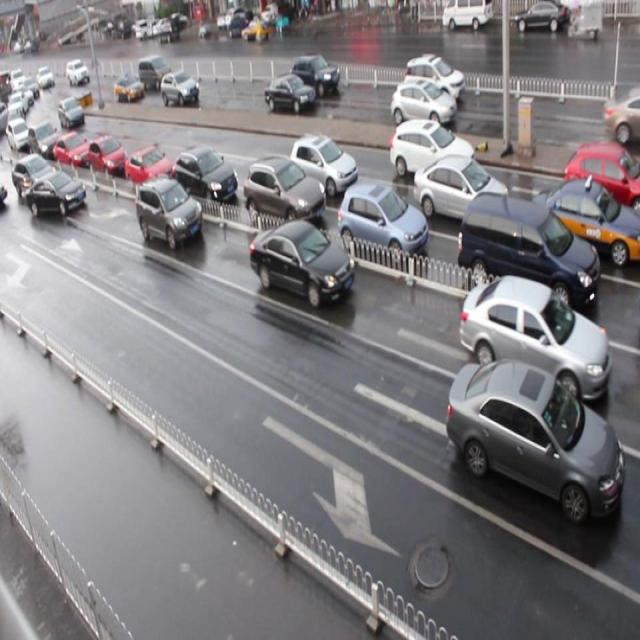car: (444, 356, 624, 522), (460, 273, 611, 406), (532, 180, 640, 273), (249, 216, 355, 310), (413, 153, 509, 233), (338, 184, 427, 266), (244, 154, 325, 230), (388, 118, 475, 188), (564, 142, 640, 222), (136, 178, 202, 251), (288, 132, 358, 197), (172, 145, 238, 208), (390, 80, 456, 130), (24, 170, 87, 219), (405, 54, 464, 106), (125, 142, 176, 197), (12, 153, 58, 200), (289, 56, 339, 96), (602, 91, 640, 143), (264, 75, 314, 113), (88, 134, 128, 180), (53, 130, 90, 176), (28, 118, 62, 164), (160, 70, 198, 107), (114, 73, 145, 102)
truck: (459, 189, 597, 318), (138, 57, 173, 91)
